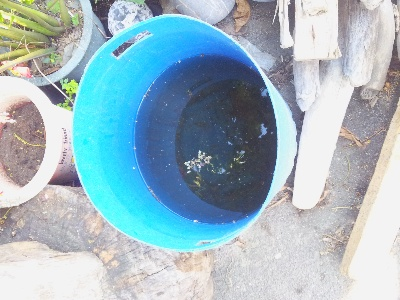bucket: (69, 13, 299, 252)
